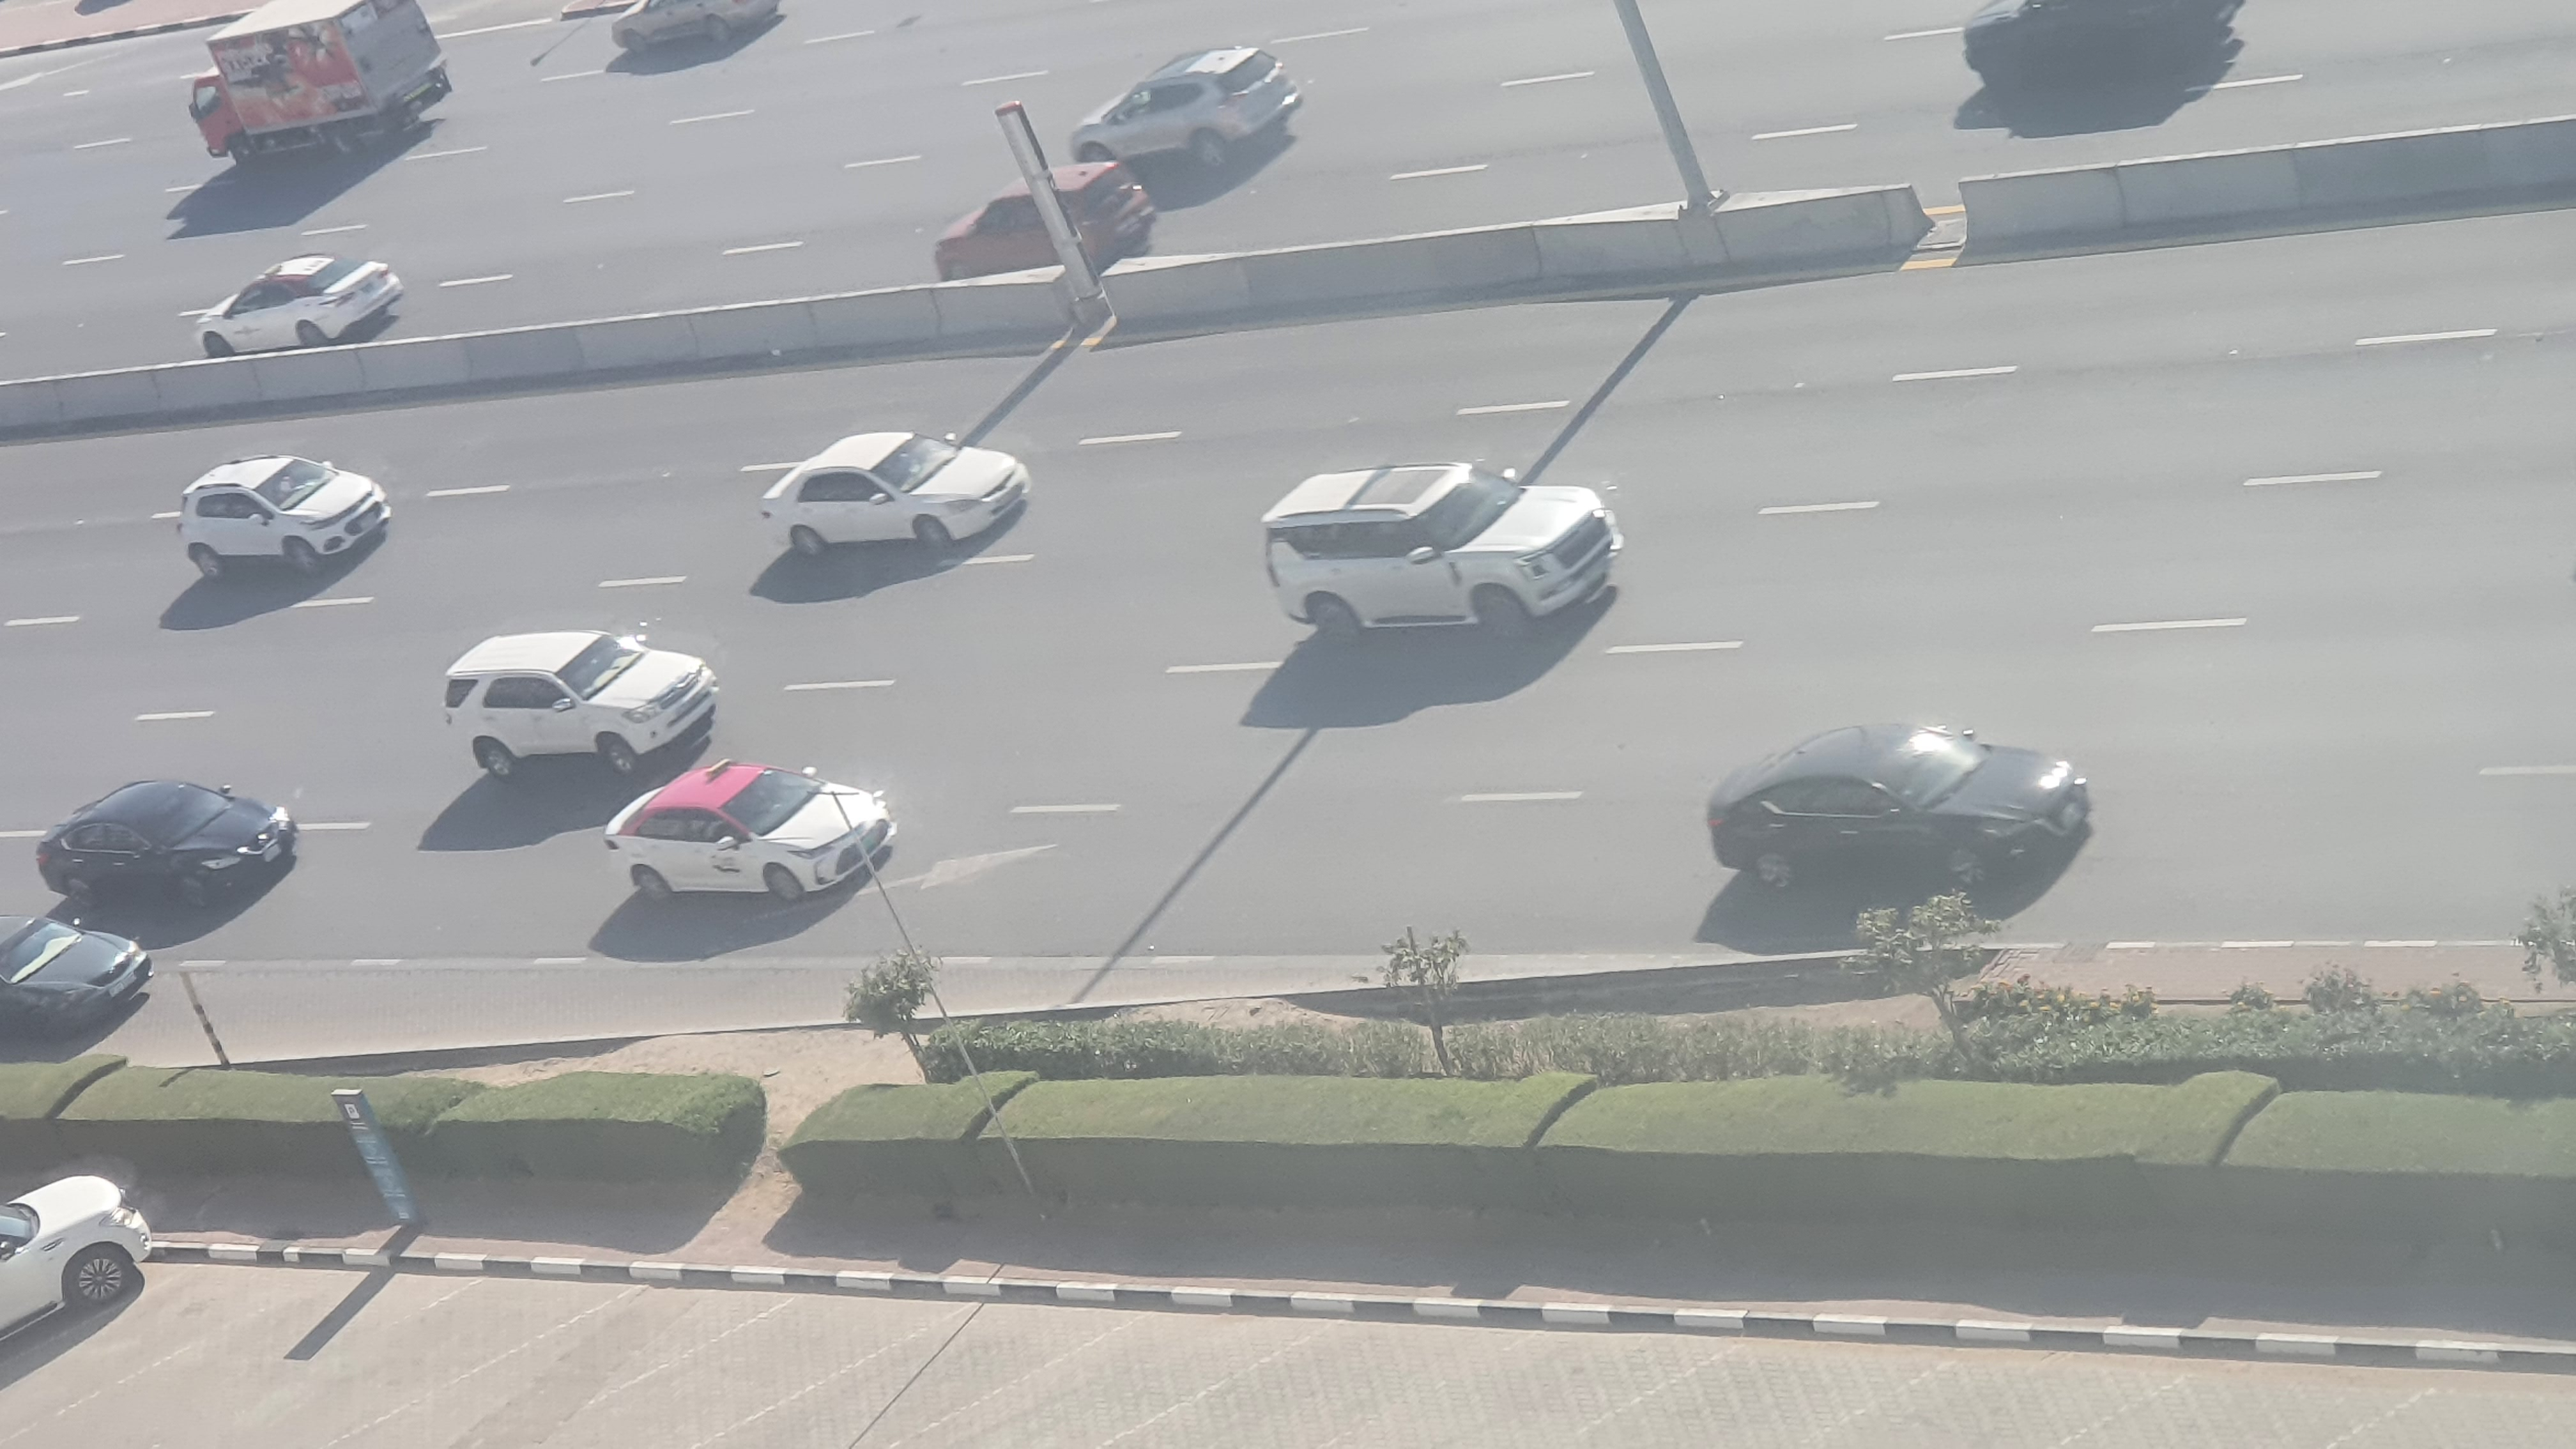NotSunroof: (1707, 715, 2102, 902), (602, 752, 890, 909), (433, 628, 718, 770), (27, 780, 308, 906), (755, 439, 1044, 559), (172, 464, 398, 584)
Sunroof: (1249, 464, 1624, 642)
